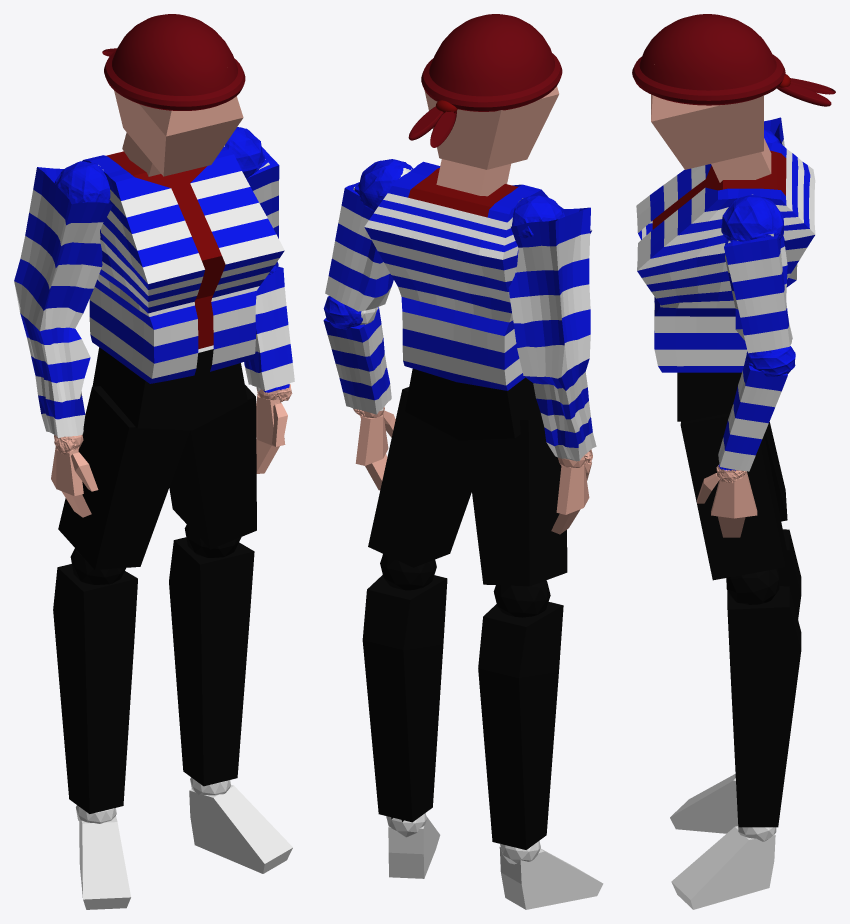
File: BOB.fbx
3 renders of one model, left to right at view 1: azimuth 30°, elevation 25°; view 2: azimuth 150°, elevation 25°; view 3: azimuth 270°, elevation 25°, orthographic. The views are drawn at different scales.
Parts seen in each view (by area): view 1: Cube.008, Hat.001; view 2: Cube.008, Hat.001; view 3: Cube.008, Hat.001.
Part boxes in pixels (x1,y1,x2,y2): Cube.008: (14, 90, 294, 909); Hat.001: (102, 14, 245, 110); Cube.008: (323, 86, 603, 909); Hat.001: (408, 14, 562, 147); Cube.008: (636, 64, 815, 909); Hat.001: (632, 14, 835, 106).
Size of the model in its own units: 5.01 by 16.5 by 3.63.
